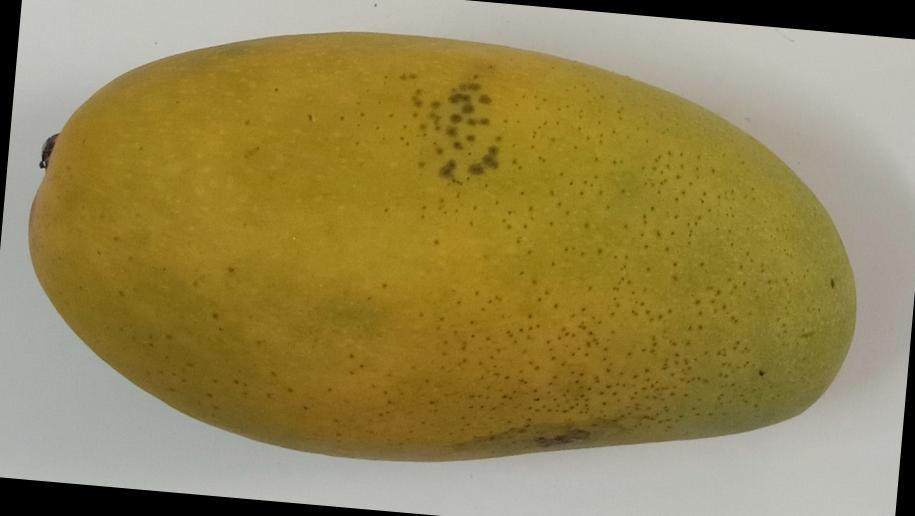Mango Ripe: (3, 6, 915, 516)
